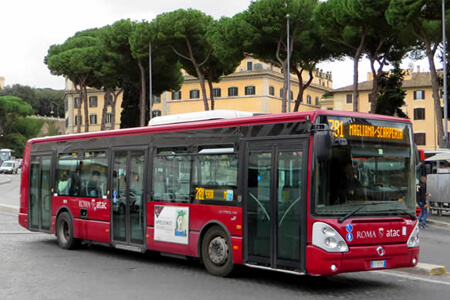bus: (16, 109, 420, 280)
